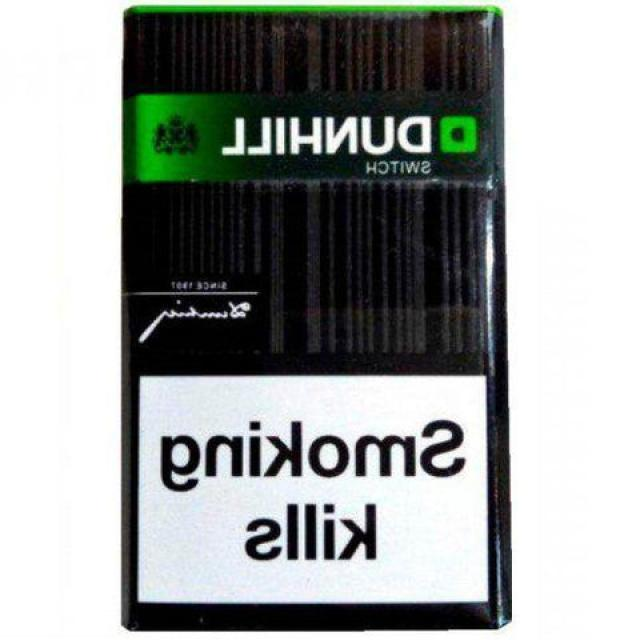dunhill: (114, 2, 507, 631)
